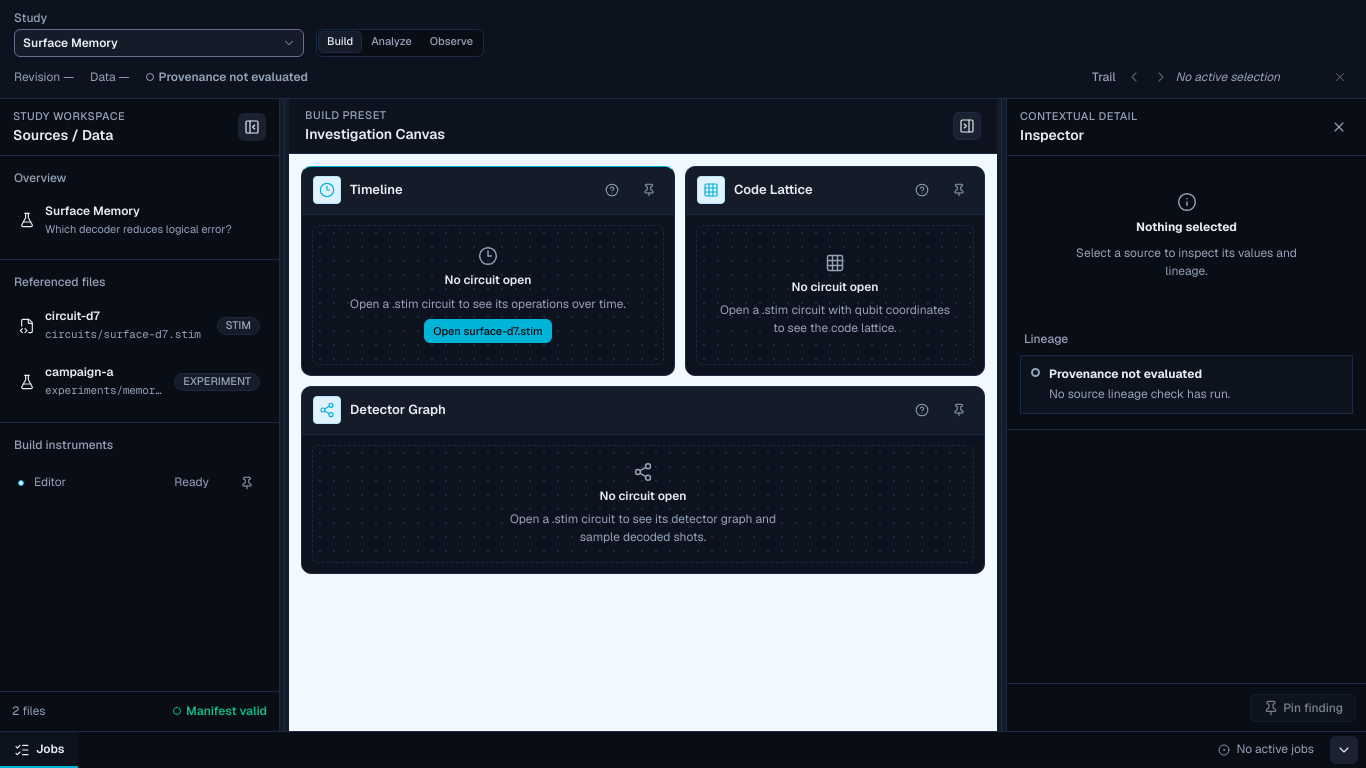
Scenario: Sources rail on narrow windows (rq-r3-06) › shows the full panel on wide windows and folds on request
Expected: the heading "Sources / Data" is shown, [13,127,125,145]
Step 1. Click the button named "Hide sources" → (252, 127), box [238,113,266,141]
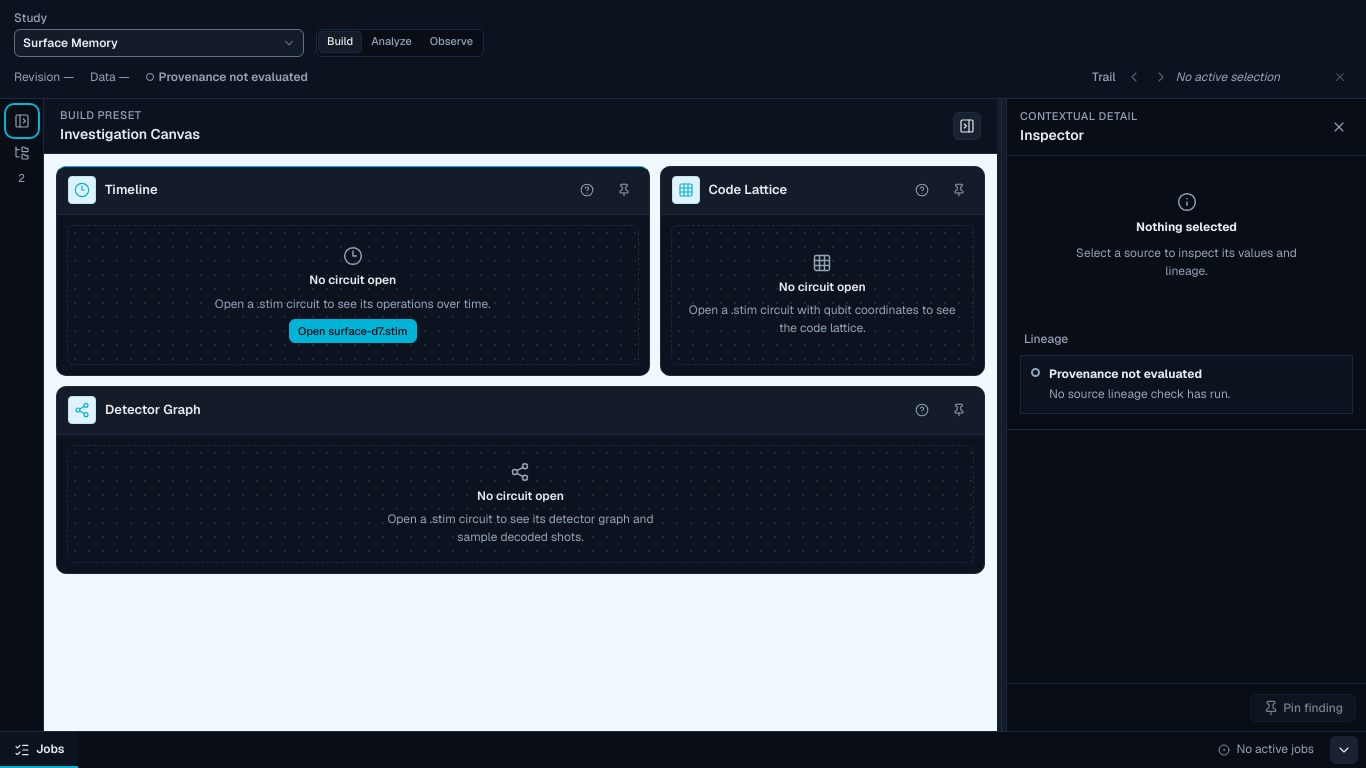
Now the element named "QEC Workbench" is shown
Step 2. Click the button named "Show sources" → (22, 121), box [8,107,36,135]
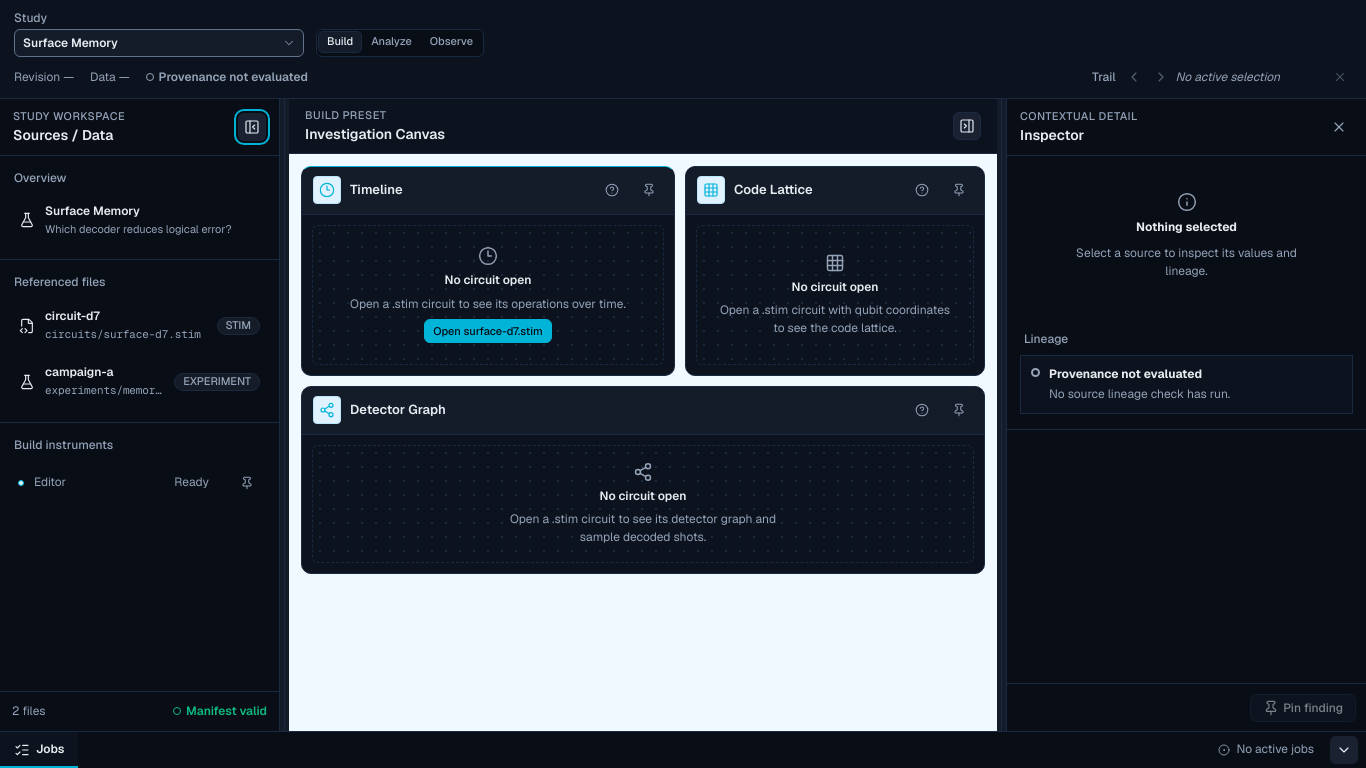
Now the heading "Sources / Data" is shown, box [13,127,125,145]
